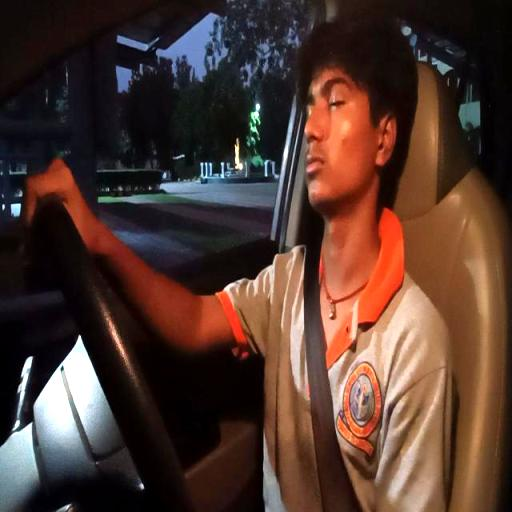sleepy: (298, 14, 410, 231)
